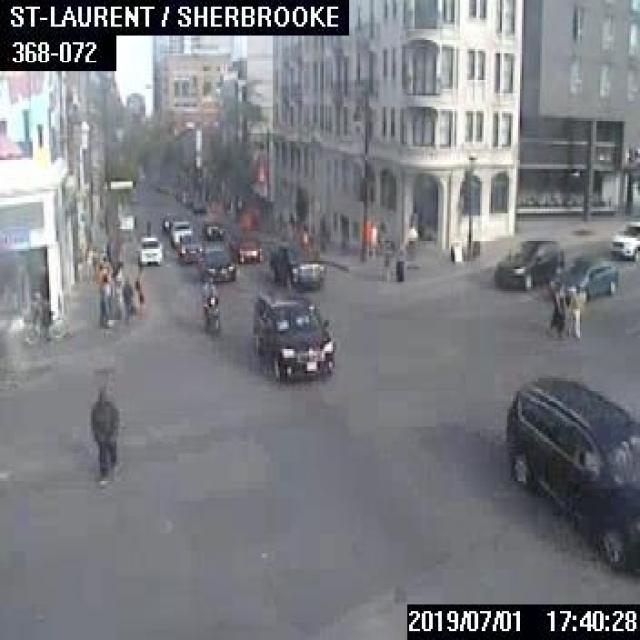construction: (240, 208, 253, 231), (299, 225, 309, 244)
cyclist: (19, 286, 65, 341)
pedestrian: (88, 389, 116, 482), (96, 273, 113, 327), (548, 286, 566, 334), (565, 286, 580, 337), (120, 275, 131, 323), (133, 273, 143, 317), (380, 242, 391, 280), (393, 244, 403, 280)
vehicle: (502, 373, 638, 571), (252, 290, 334, 378), (491, 237, 562, 288), (548, 258, 616, 300), (266, 244, 323, 288), (198, 247, 234, 281), (610, 220, 638, 258), (201, 277, 218, 337), (229, 232, 260, 261), (177, 233, 203, 262), (136, 236, 161, 264), (169, 218, 190, 244), (162, 212, 180, 230), (201, 217, 218, 236)
